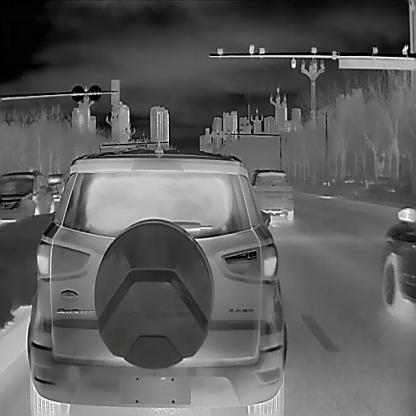car: (25, 147, 288, 415), (380, 202, 416, 320), (0, 169, 53, 221), (248, 168, 294, 227), (43, 173, 69, 201)
